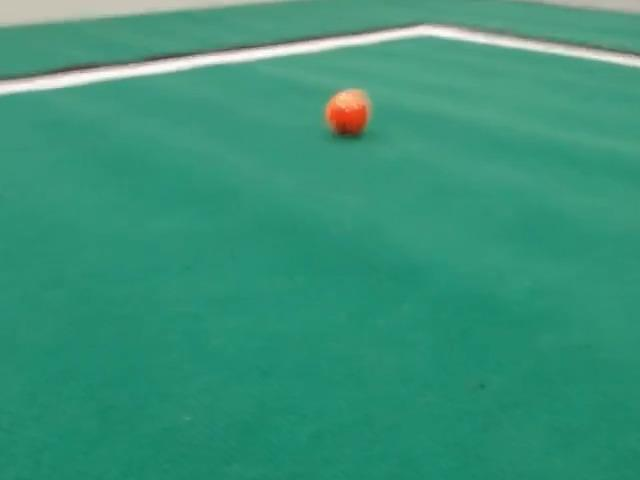Ball: (325, 89, 370, 136)
